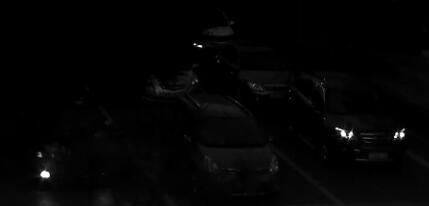car: (284, 72, 411, 166), (163, 90, 278, 191), (228, 58, 310, 101), (143, 58, 200, 102), (32, 133, 69, 185), (194, 18, 237, 47)
